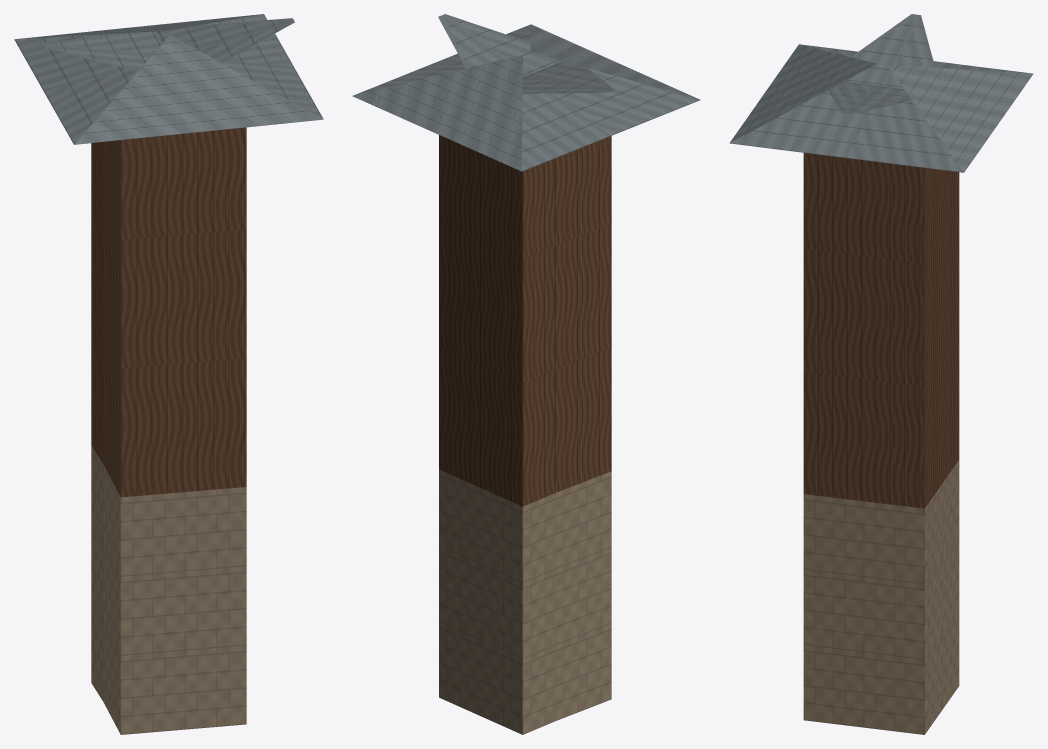
Rendered from bld_c9_39_506.gltf.
3 renders of one model, left to right at view 1: azimuth 30°, elevation 25°; view 2: azimuth 150°, elevation 25°; view 3: azimuth 270°, elevation 25°, orthographic. The views are drawn at different scales.
Visible parts, largest first — view 1: bld_c9_39_506; view 2: bld_c9_39_506; view 3: bld_c9_39_506.
Boxes of the visible parts, x1,y1,x2,y2 form: bld_c9_39_506: (14, 14, 323, 734); bld_c9_39_506: (352, 14, 700, 734); bld_c9_39_506: (730, 14, 1033, 734).
Size of the model in its own units: 6.22 by 14.4 by 6.22.
3 materials, 3 textured.
